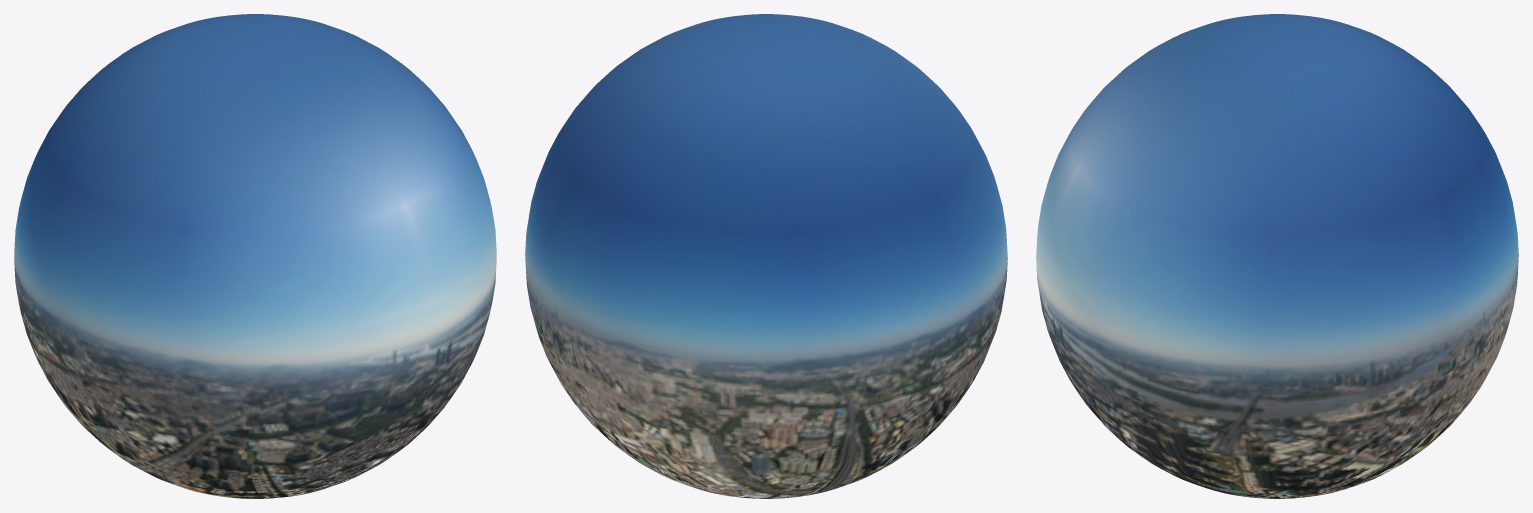
File: aviao_da_tam.glb
3 renders of one model, left to right at view 1: azimuth 30°, elevation 25°; view 2: azimuth 150°, elevation 25°; view 3: azimuth 270°, elevation 25°, orthographic.
Parts seen in each view (by area): view 1: Esfera UV_34; view 2: Esfera UV_34; view 3: Esfera UV_34.
Boxes of the visible parts, x1,y1,x2,y2 form: Esfera UV_34: [14, 14, 496, 498]; Esfera UV_34: [525, 14, 1007, 498]; Esfera UV_34: [1036, 14, 1518, 498].
Bounding box in the file's own units: 161 × 163 × 161.
Materials: 32 (16 with a texture image).
